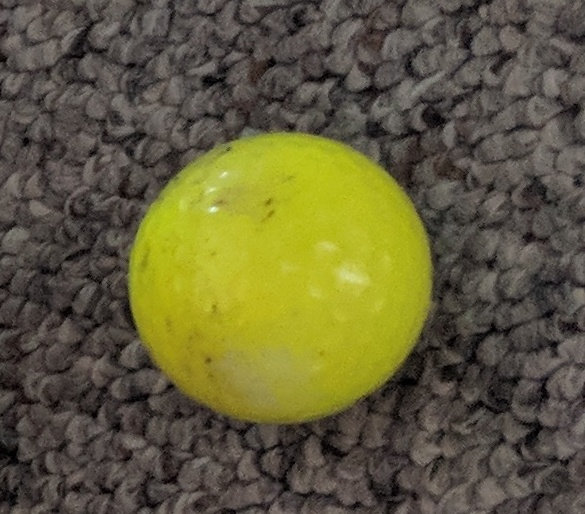ball: (130, 132, 439, 434)
